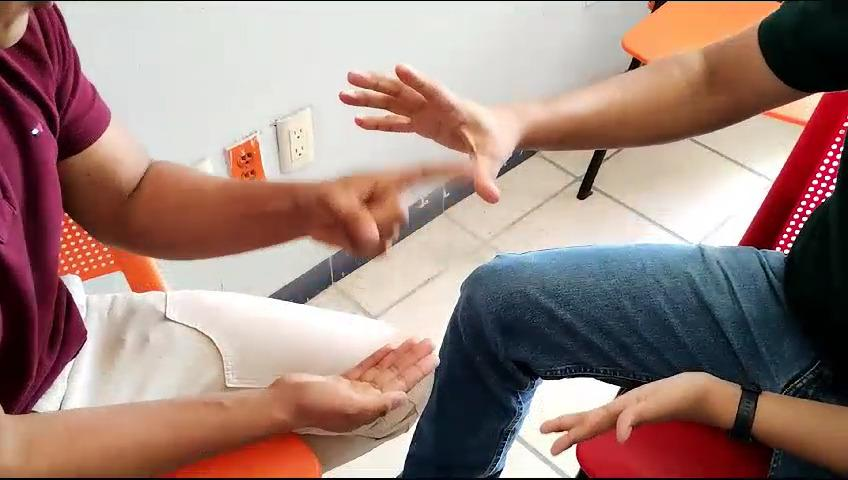Paper: (331, 52, 536, 212)
